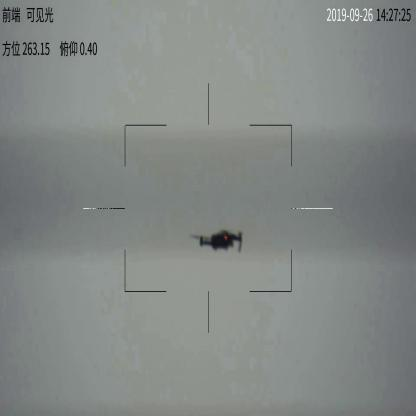uav: (195, 225, 251, 252)
